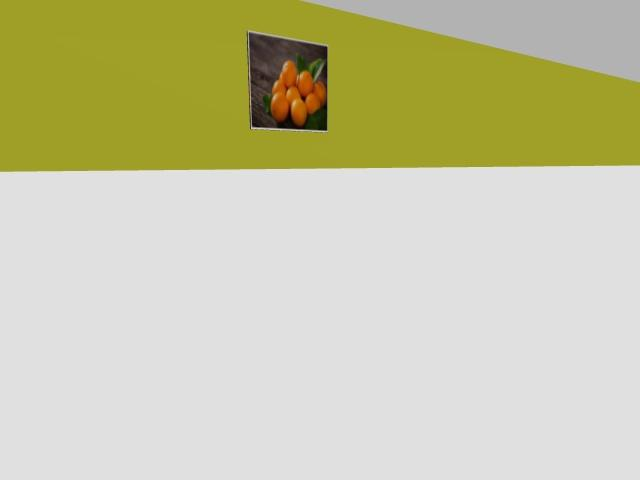orange: (270, 92, 288, 122), (291, 98, 306, 127), (297, 70, 313, 97), (281, 60, 297, 87), (305, 93, 321, 114), (313, 81, 326, 105), (286, 86, 300, 104), (272, 80, 286, 94), (279, 71, 282, 79)
